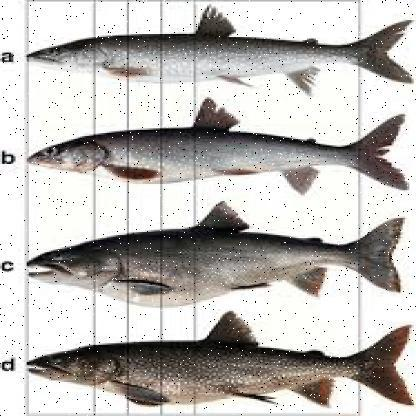fish: (31, 203, 410, 306), (24, 316, 410, 406), (26, 103, 410, 192), (19, 6, 414, 88)
